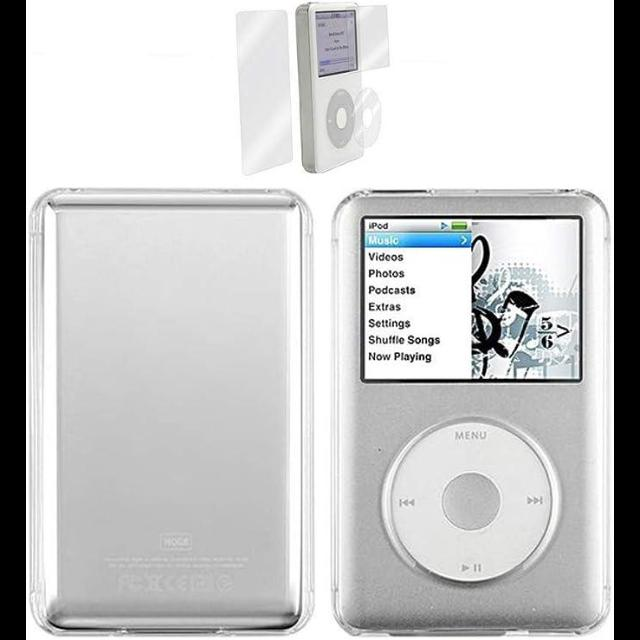Music-Player: (27, 178, 320, 640), (326, 174, 612, 636)
